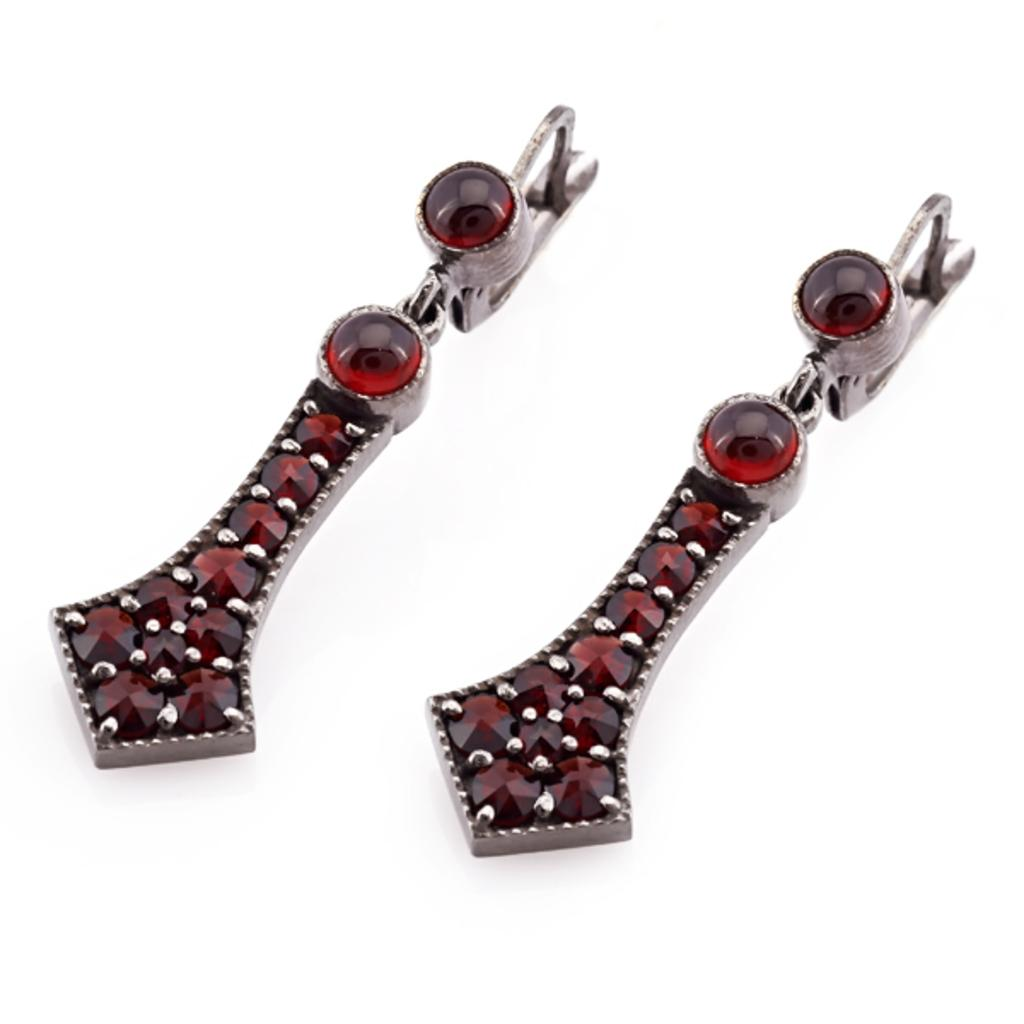earring: (413, 186, 987, 857), (46, 94, 603, 775)
